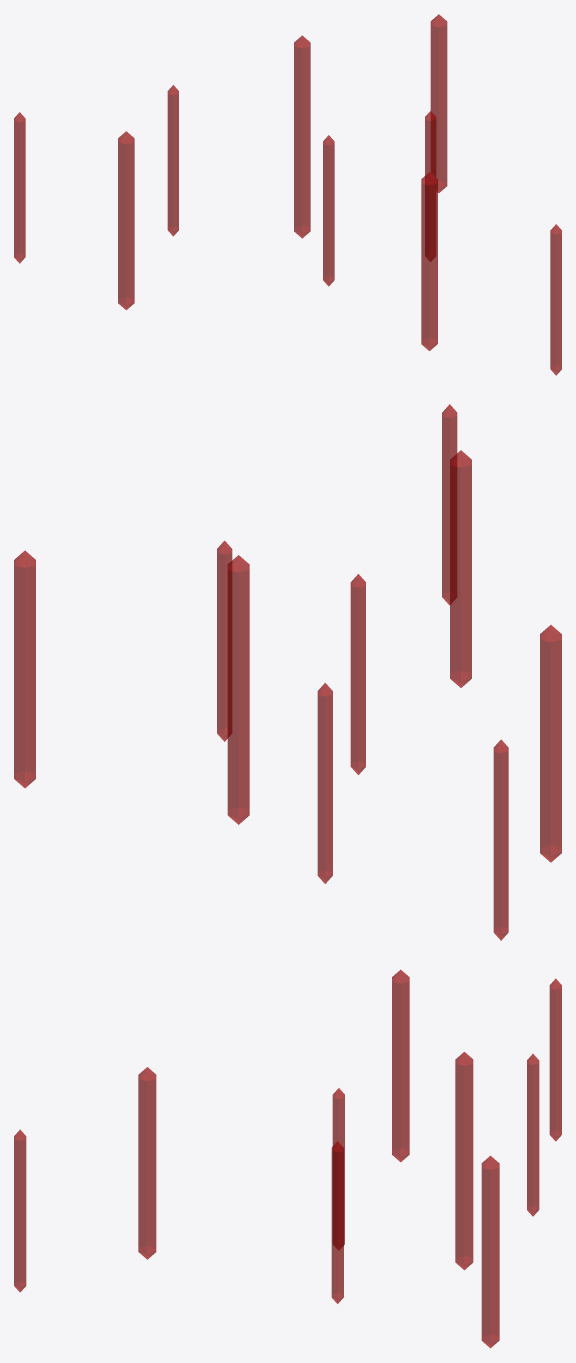
File: SM_Env_Tree_Cluster_02_Collision.fbx
3 renders of one model, top to bottom at view 1: azimuth 30°, elevation 25°; view 2: azimuth 150°, elevation 25°; view 3: azimuth 270°, elevation 25°, orthographic. The views are drawn at different scales.
Parts seen in each view (by area): view 1: SM_Env_Tree_Cluster_02_Collision; view 2: SM_Env_Tree_Cluster_02_Collision; view 3: SM_Env_Tree_Cluster_02_Collision.
Part boxes in pixels (bbox=[...]): SM_Env_Tree_Cluster_02_Collision: bbox=[14, 14, 561, 375]; SM_Env_Tree_Cluster_02_Collision: bbox=[14, 404, 561, 940]; SM_Env_Tree_Cluster_02_Collision: bbox=[14, 969, 561, 1348].
Bounding box in the file's own units: 1210 × 584 × 1325.
